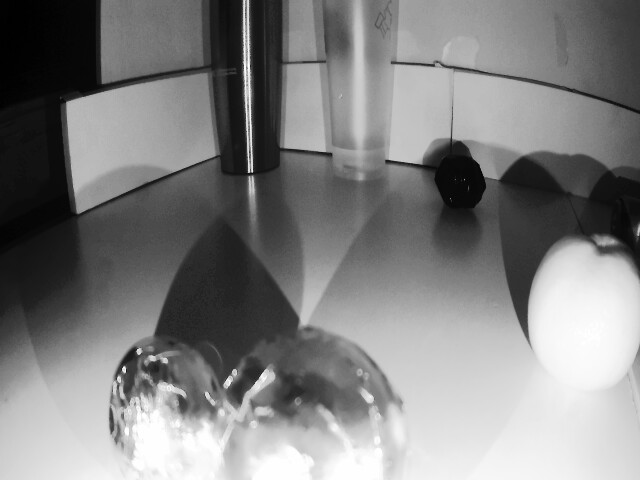black: (226, 326, 414, 480), (103, 334, 244, 480)
silver: (433, 150, 484, 220)
